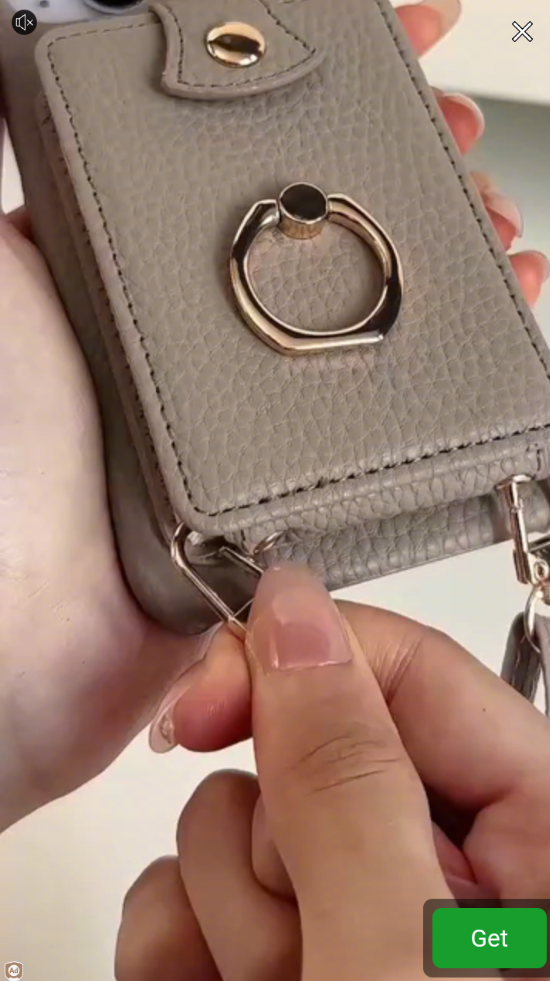close_button: (504, 16, 537, 46)
